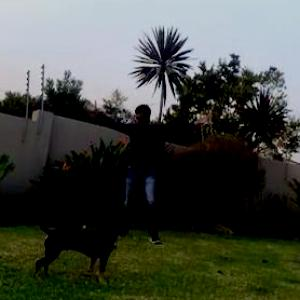takeoff: (88, 103, 214, 232)
